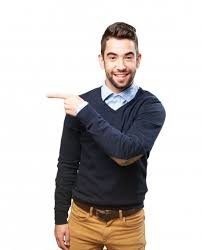hand: (42, 85, 91, 123)
